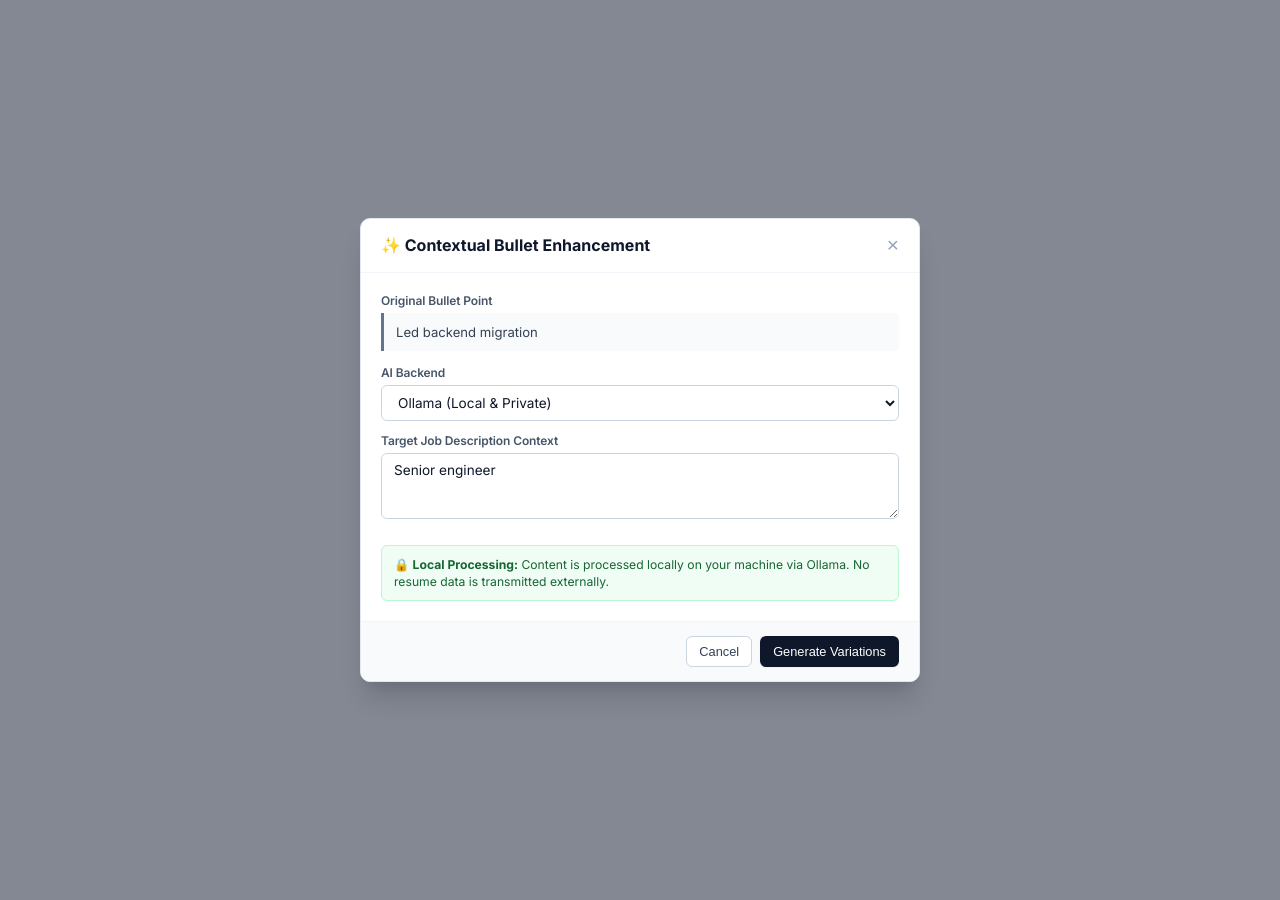
Test: EnhanceBulletModal › displays error message on backend failure
Click the button "Generate Variations". click: (830, 652)
box: x1=760 y1=636 x2=899 y2=667
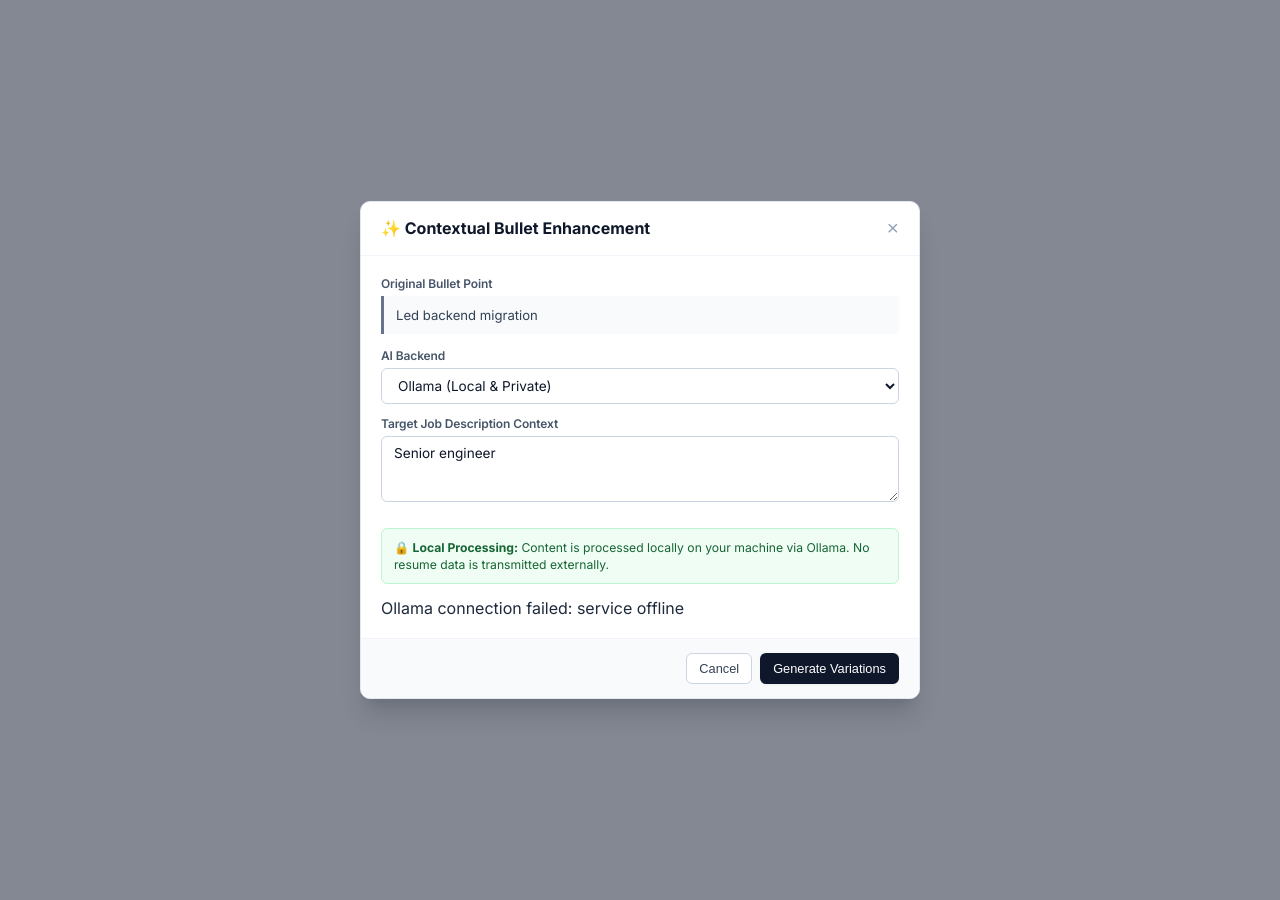
Check: the text "Ollama connection failed: service offline" is shown, box x1=381 y1=598 x2=684 y2=618
